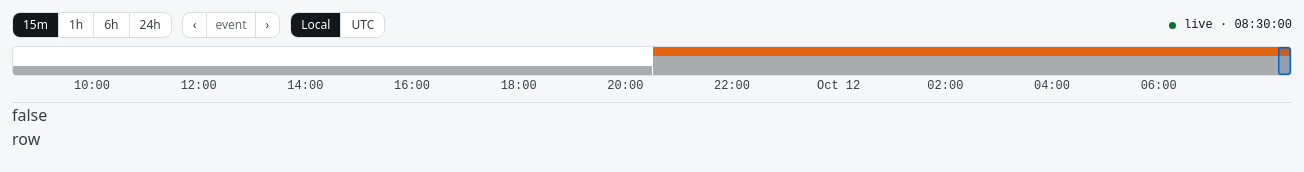
Test: a track › returns to live on a click at the newest sample
Click the button "UTC" at (362, 25), box [340,13,384,37]
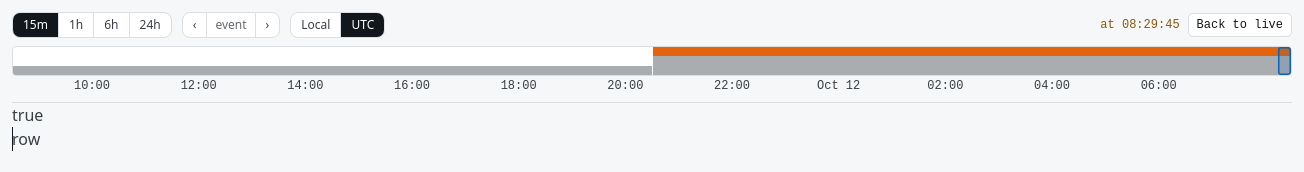
Press the mouse on the element showing "row" at (26, 139), box [12,128,40,150]
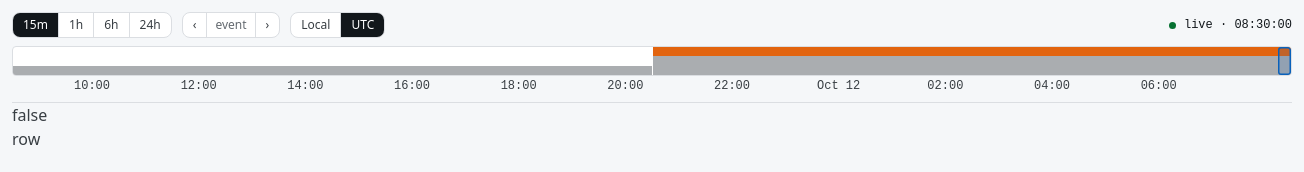
Expected: the text "false" is shown, [12,104,47,126]
